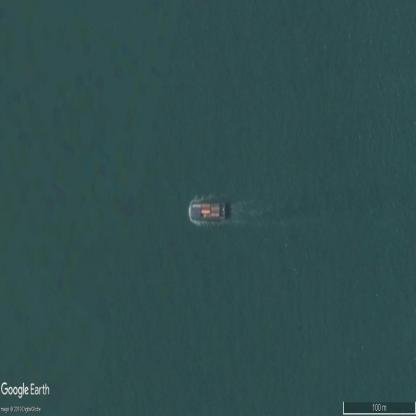ship: (189, 200, 226, 221)
